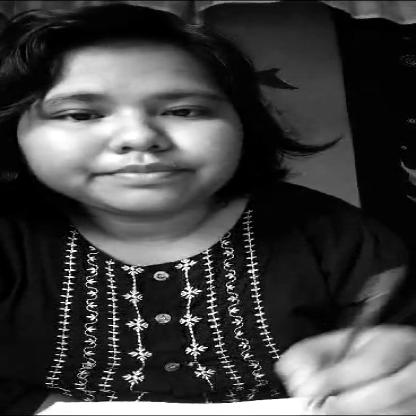Normal: (0, 34, 269, 241)
